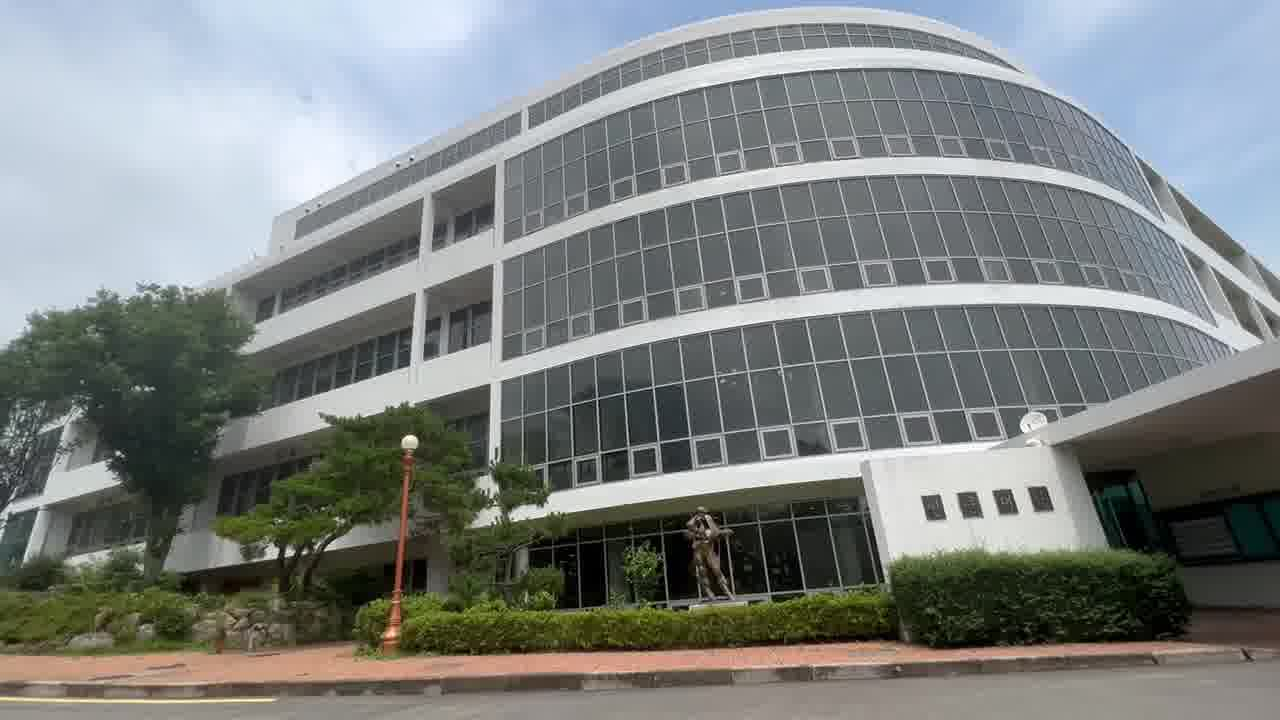low: (458, 27, 1108, 519)
